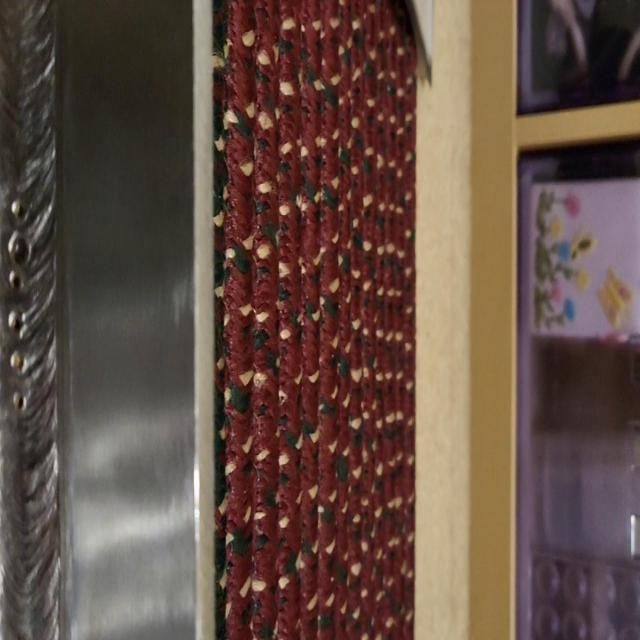Welding Line: (2, 9, 60, 640)
Workpiece: (0, 2, 212, 640)
porosity: (8, 200, 32, 412)
